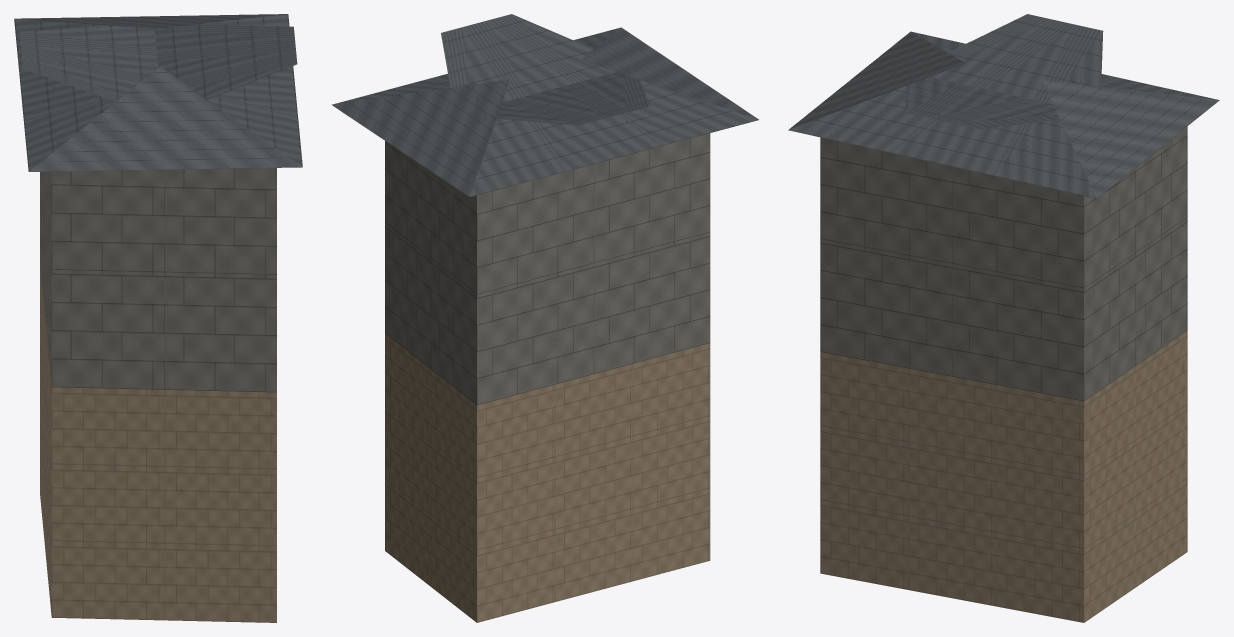
Rendered from bld_c23_-49_527.gltf.
3 views of the same model, side by side, from view 1: azimuth 30°, elevation 25°; view 2: azimuth 150°, elevation 25°; view 3: azimuth 270°, elevation 25° (orthographic). The views are drawn at different scales.
Parts seen in each view (by area): view 1: bld_c23_-49_527; view 2: bld_c23_-49_527; view 3: bld_c23_-49_527.
Part boxes in pixels (bbox=[...]): bld_c23_-49_527: bbox=[14, 14, 302, 622]; bld_c23_-49_527: bbox=[331, 14, 758, 622]; bld_c23_-49_527: bbox=[788, 14, 1219, 622].
Bounding box in the file's own units: 8.26 × 11.3 × 9.01.
3 materials, 3 textured.
